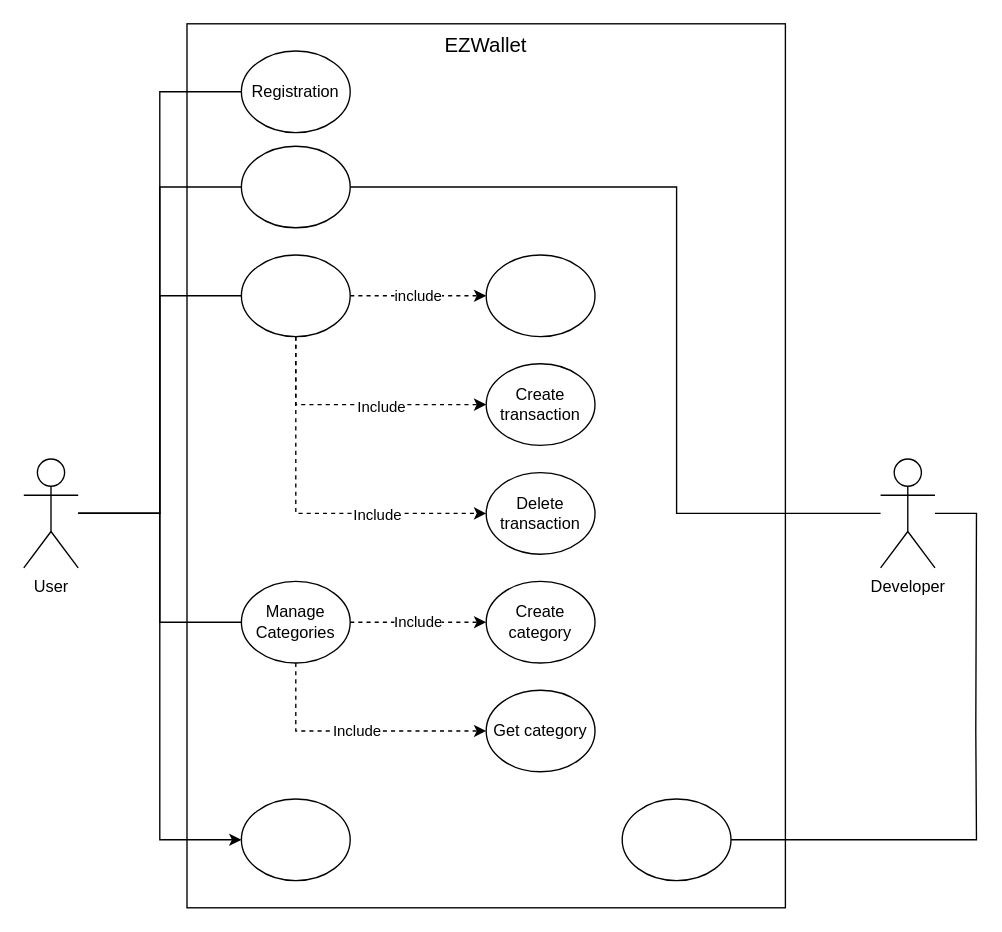
The diagram is 1002 pixels wide and 932 high, and some of its shapes have lost their labels. Here are the shapes that lost their labels. From the top down, the centre of each, then its label:
pixel 295 186: Login
pixel 295 295: Manage Transaction
pixel 540 295: Get transaction
pixel 295 839: Get Labels
pixel 676 839: API Access
